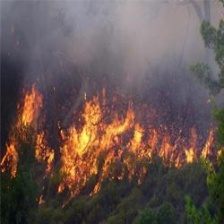fire: (1, 90, 215, 183)
smoke: (18, 5, 205, 70)
